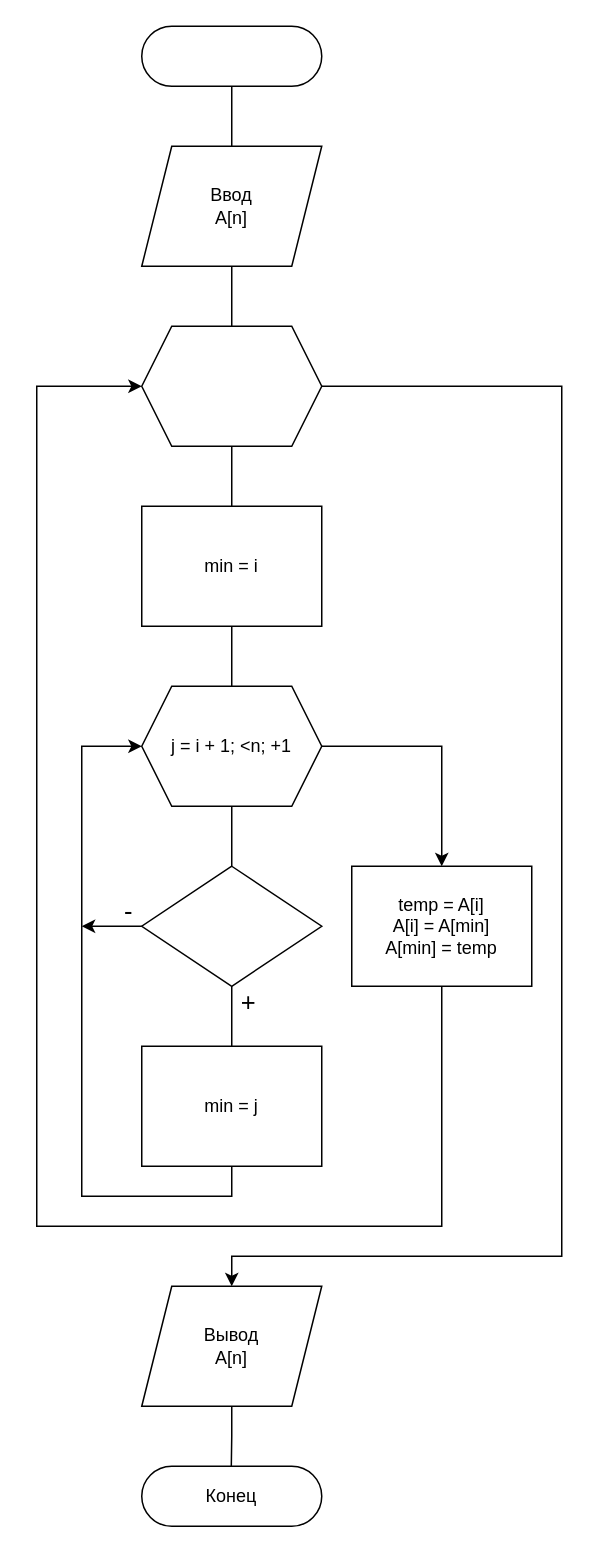
Some shapes in this 600 by 1553 pixel diagram are drawn without their labels. Here are the shapes that lost their labels. From the top down, the centre of each, then its label:
At (x=231, y=55): "Начало".
At (x=231, y=385): "i = 0; n-1; +1".
At (x=231, y=925): "A[j] < A[min]".
